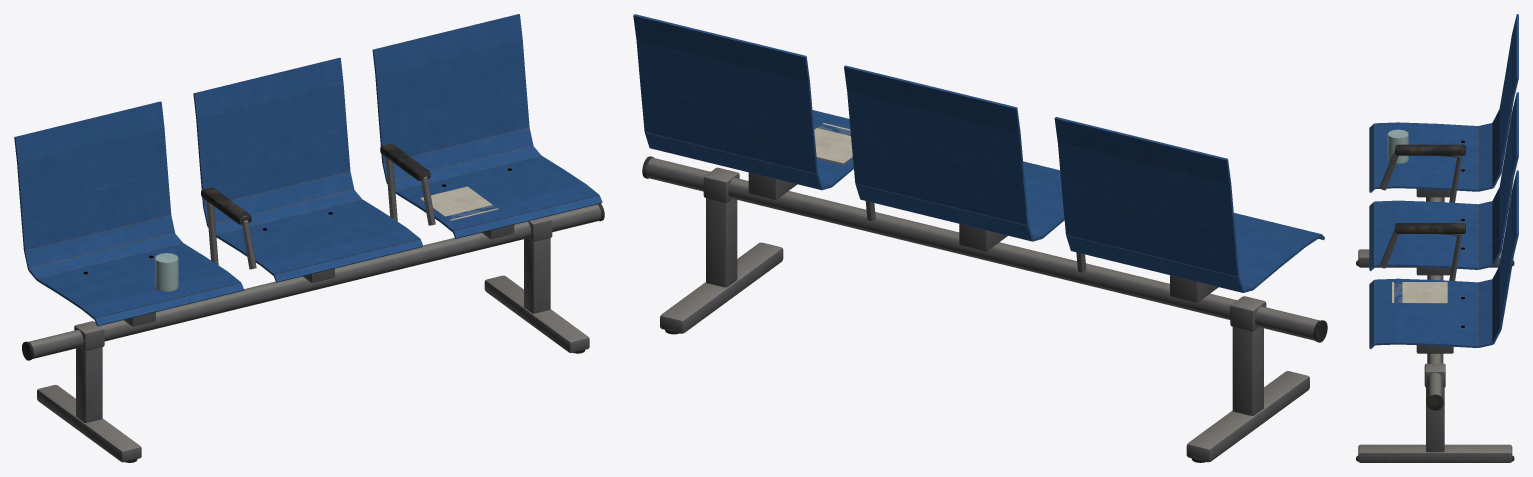
The model's file is banco_espera.glb.
3 views of the same model, side by side, from view 1: azimuth 30°, elevation 25°; view 2: azimuth 150°, elevation 25°; view 3: azimuth 270°, elevation 25° (orthographic). The views are drawn at different scales.
Parts seen in each view (by area): view 1: banco; view 2: banco; view 3: banco.
Part boxes in pixels (x1,y1,x2,y2): banco: (14, 14, 604, 462); banco: (633, 14, 1327, 462); banco: (1356, 14, 1518, 462).
Size of the model in its own units: 1.92 by 0.8517 by 0.5284.
Materials: 1 (1 with a texture image).
